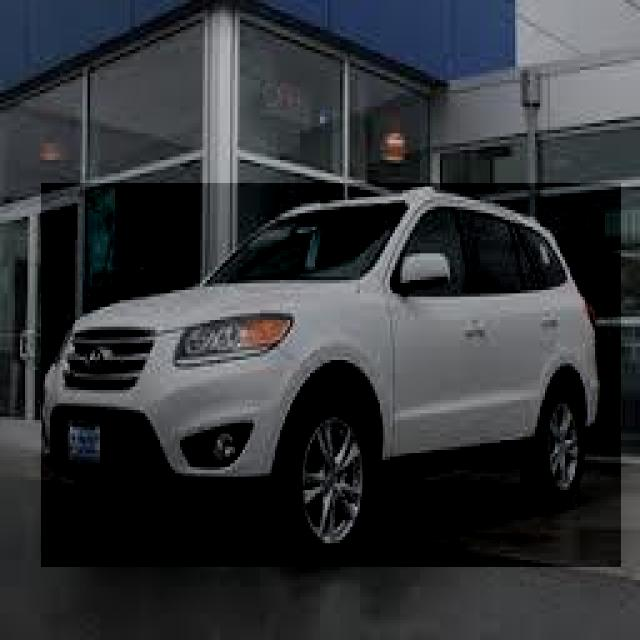Car: (41, 183, 621, 567)
